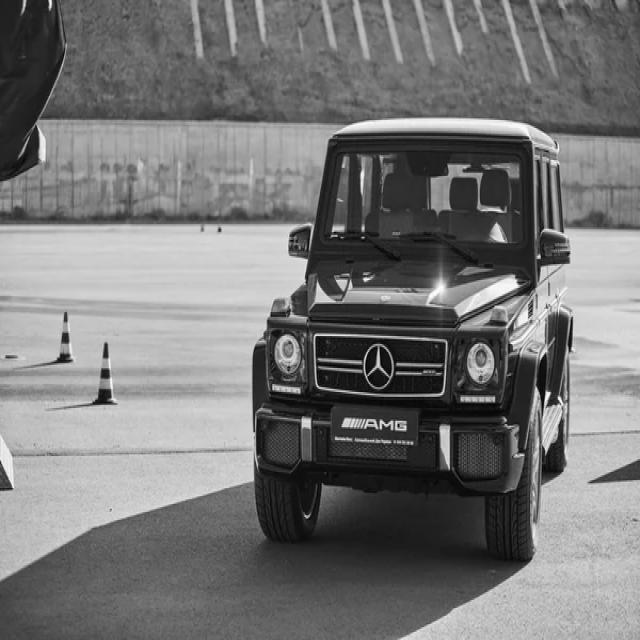Car: (254, 118, 574, 562)
